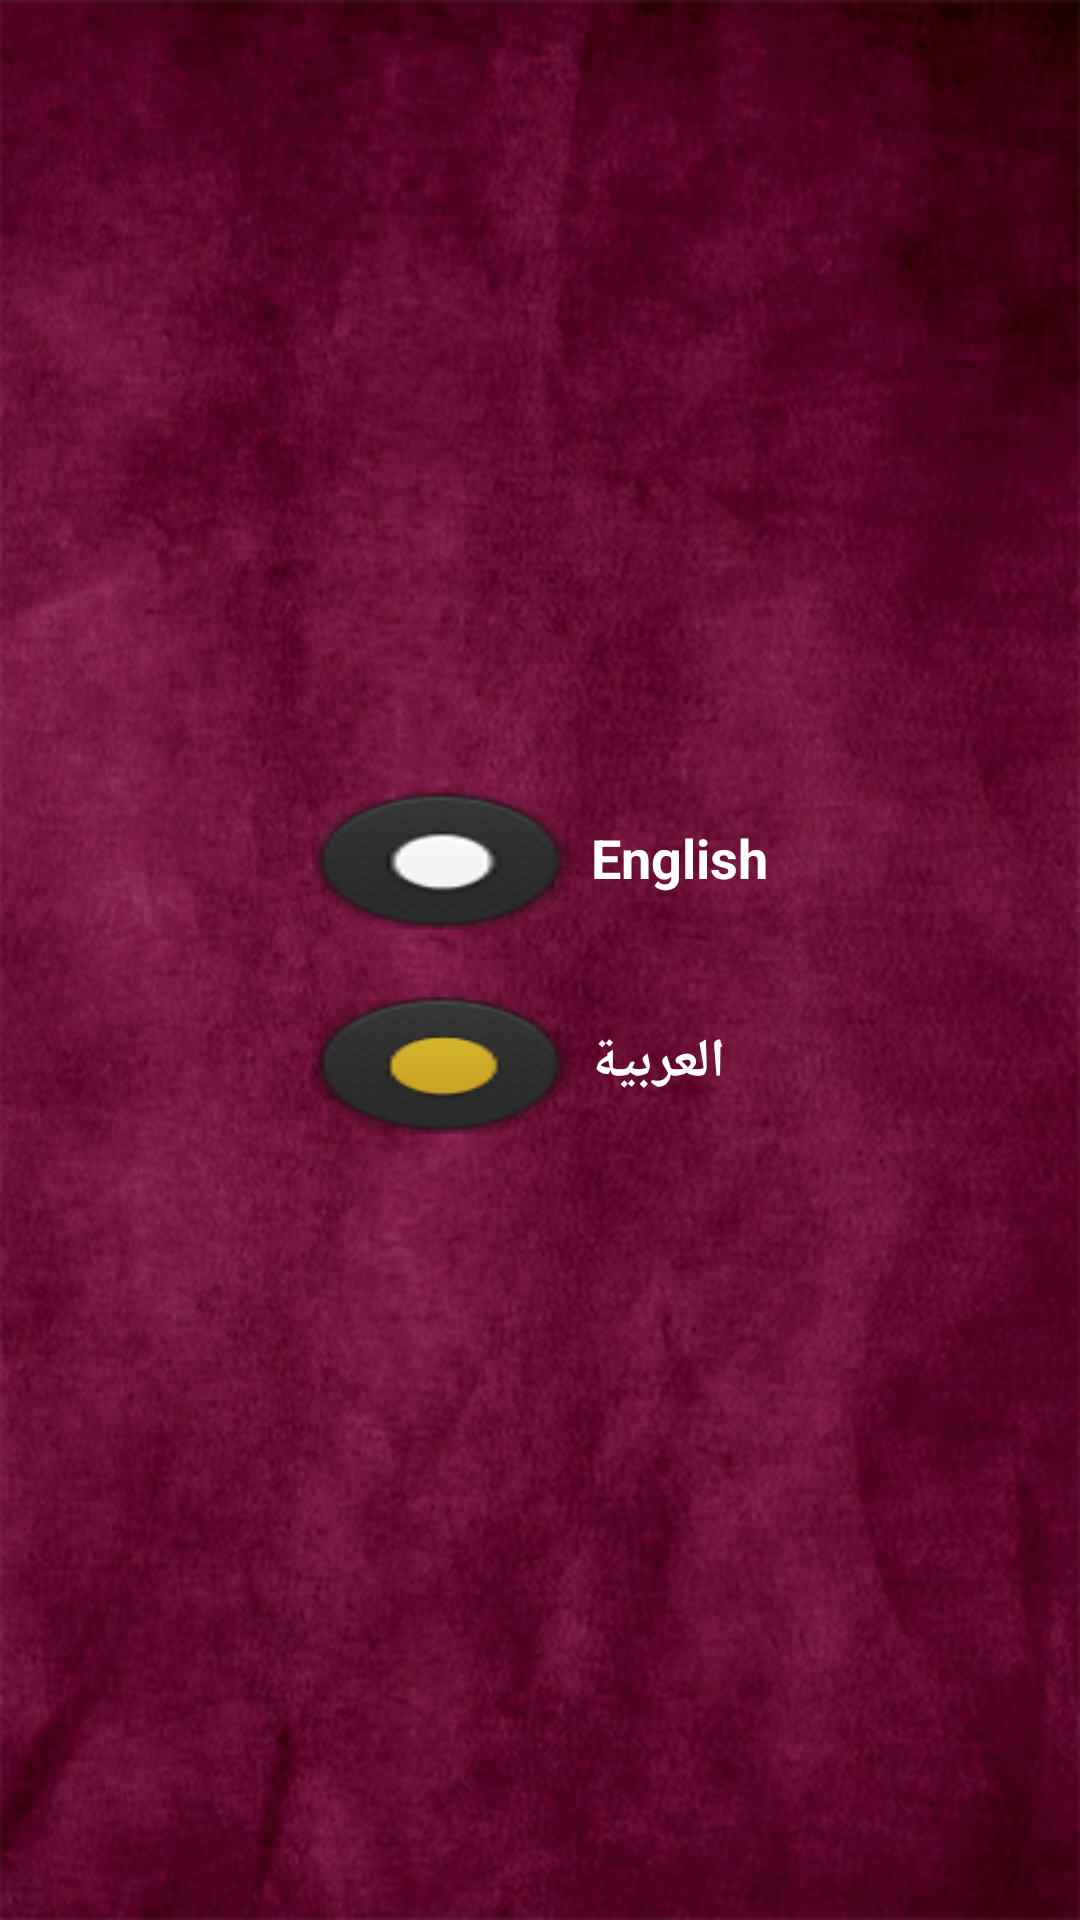

Screen size 1080 × 1920. Icon name, then its box in pixels as (x1, y1, x2, y2):
radio: (318, 786, 565, 930), (312, 990, 576, 1134)
